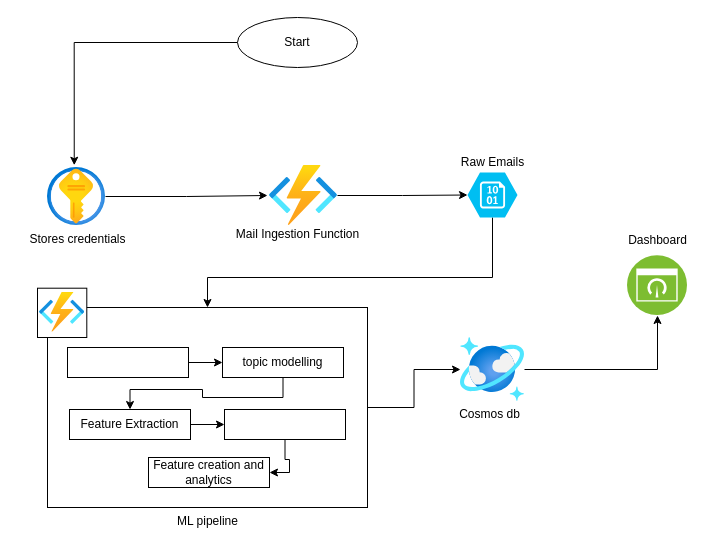
Some shapes in this 714 by 554 pixel diagram are drawn without their labels. Each missing label, with the box of its shape:
ML algorithm: (224, 408, 346, 440)
Text pre-processing: (66, 346, 188, 378)
